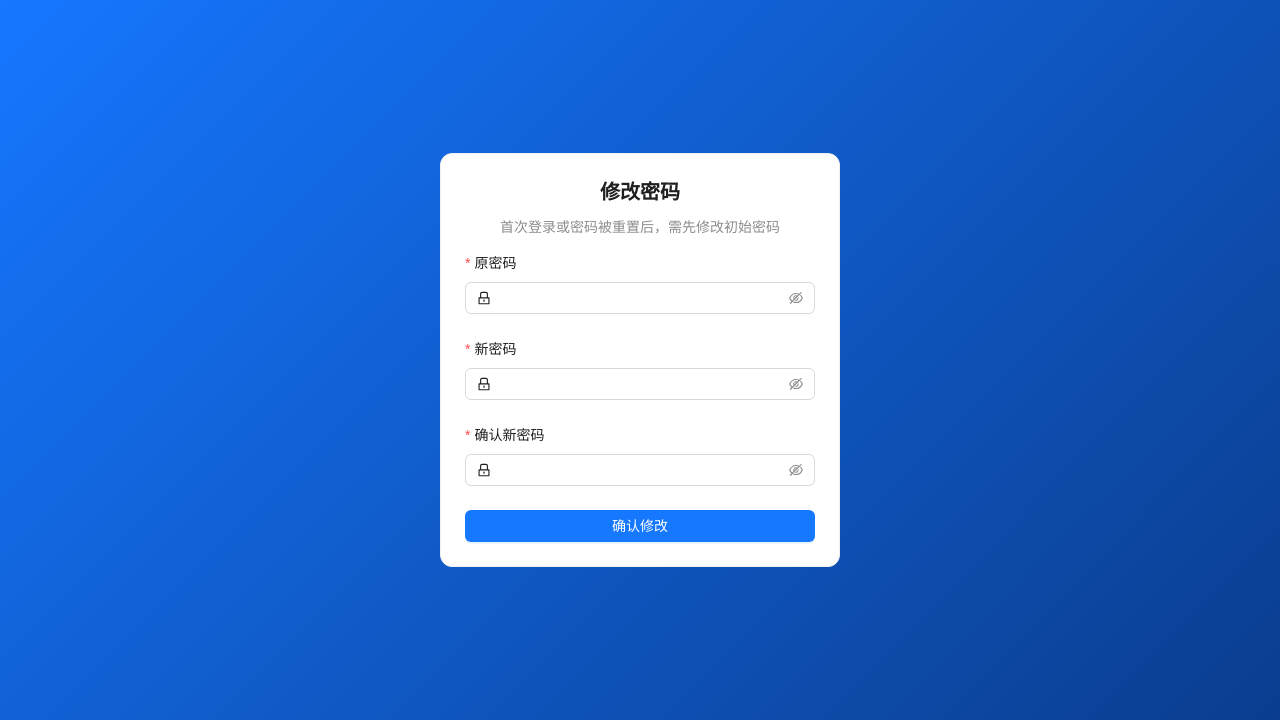
修改密码页（TC-LOGIN-019/020 前端侧） › 必填为空：本地校验拦截
Click the button "确认修改" at (640, 526), box [465, 510, 815, 542]
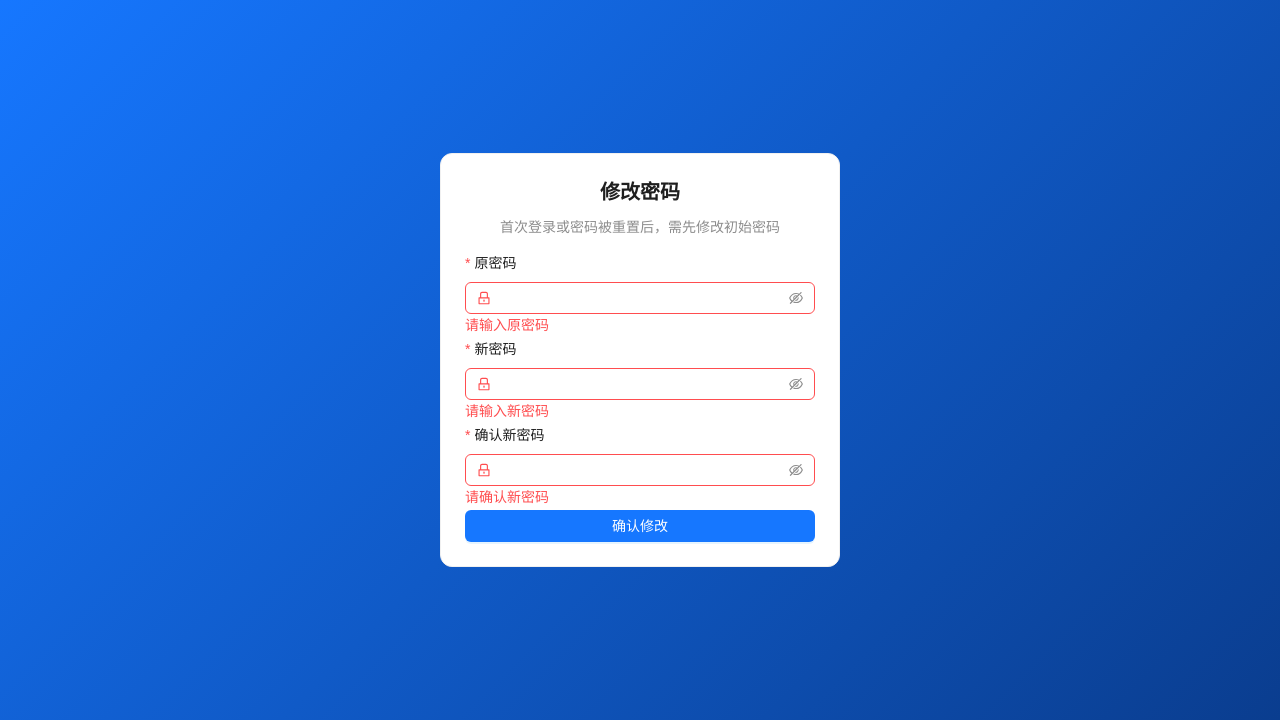
Expected: the text "请输入原密码" is shown, [465, 316, 549, 333]
